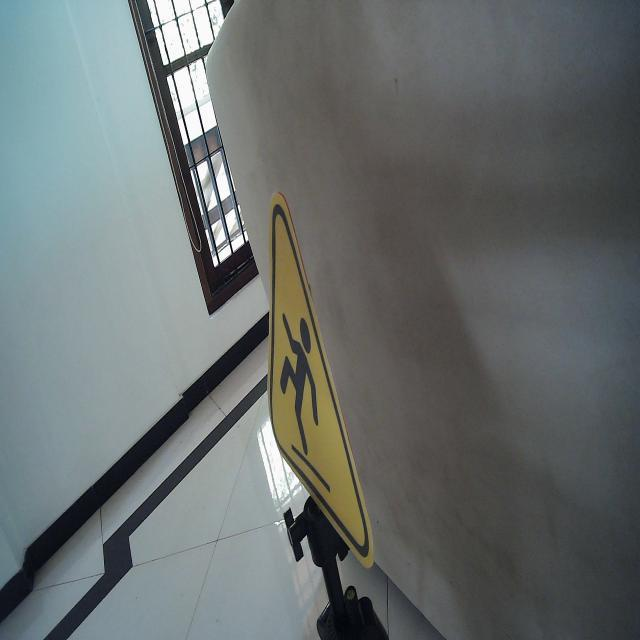slippery_sign: (266, 187, 376, 572)
